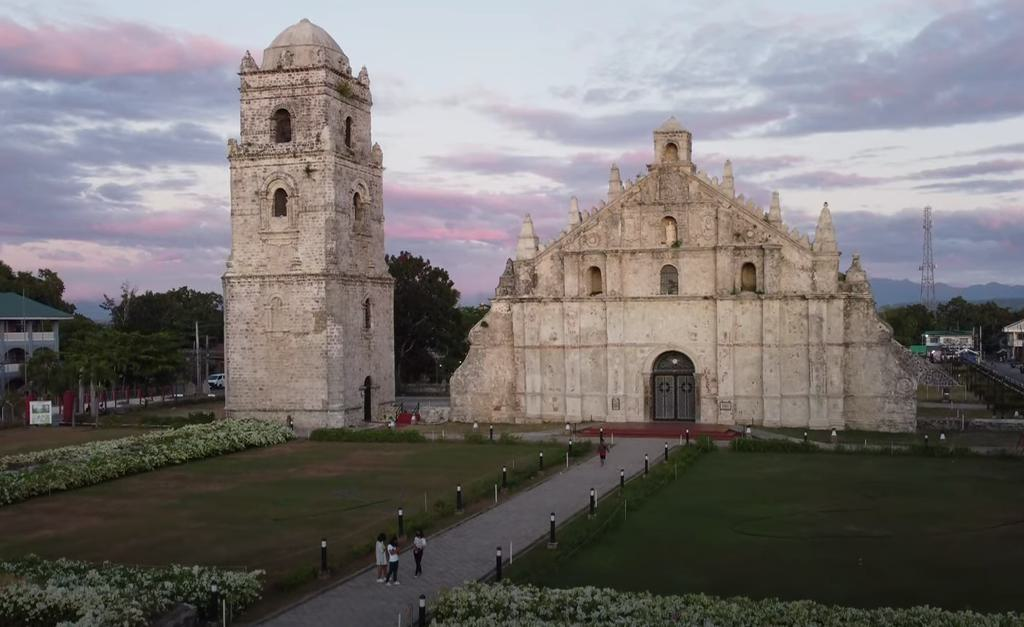Environmental Damage: (327, 77, 361, 103)
Paoay Church: (221, 14, 919, 435)
